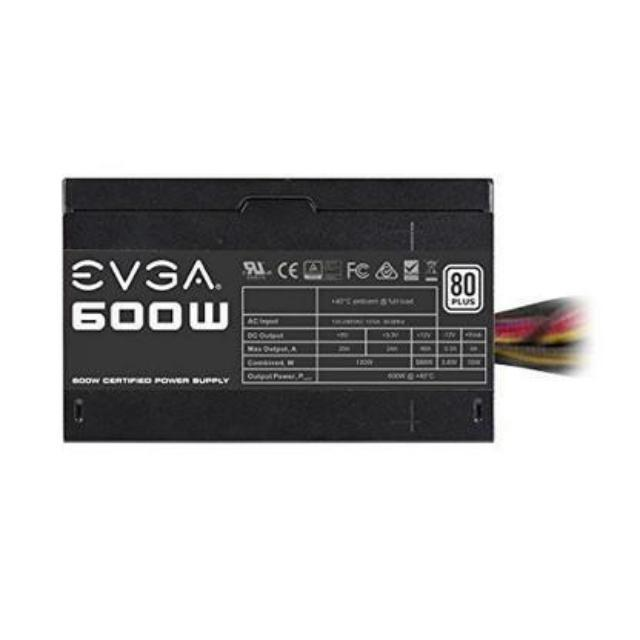PSU: (56, 167, 502, 455)
